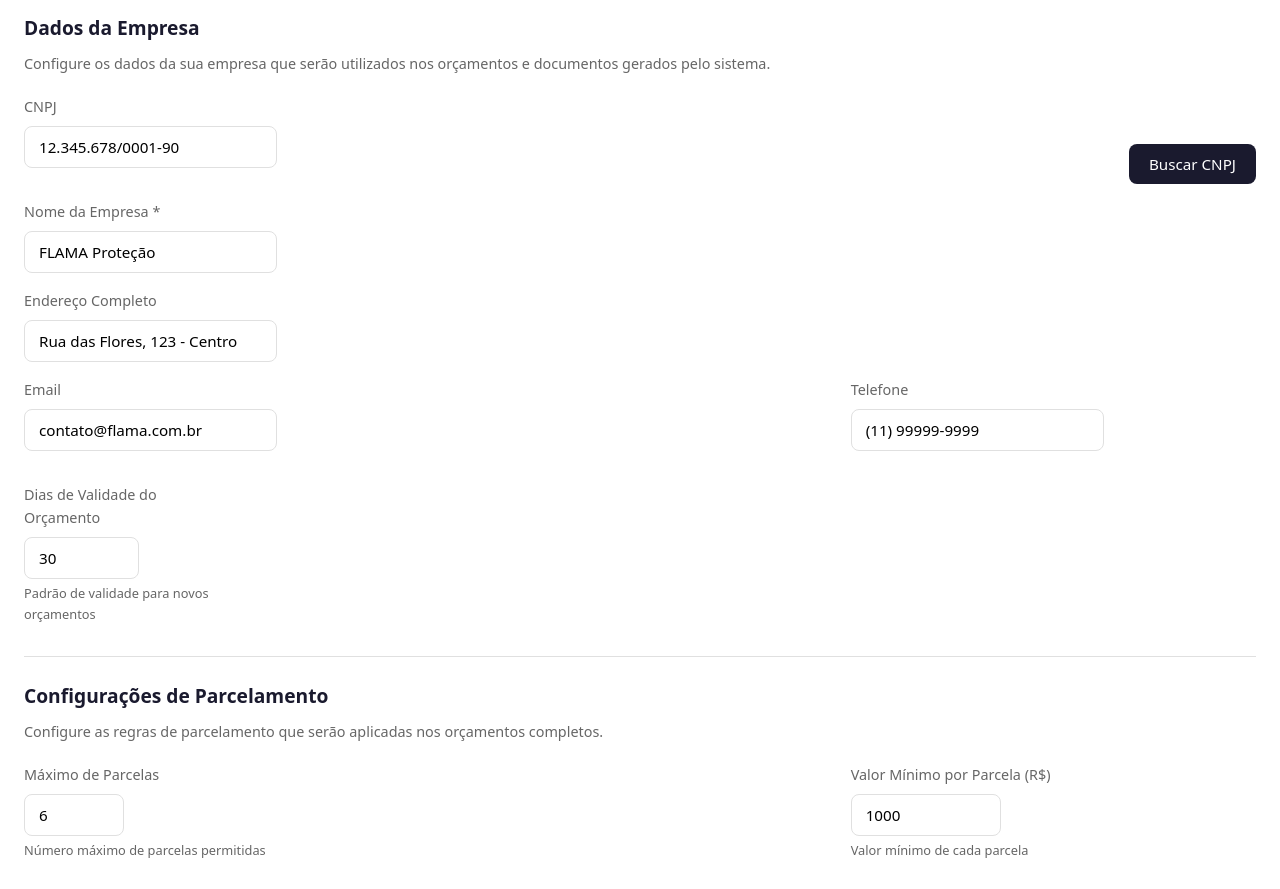
Scenario: EmpresaTab › Interações com formulário › deve mostrar botão Cancelar quando form está dirty
Step 1. Replace the text in the field showing "FLAMA Proteção" below "Nome da Empresa *" with "Nova Empresa" → (150, 252), box [24, 231, 277, 273]
(page scrolled)
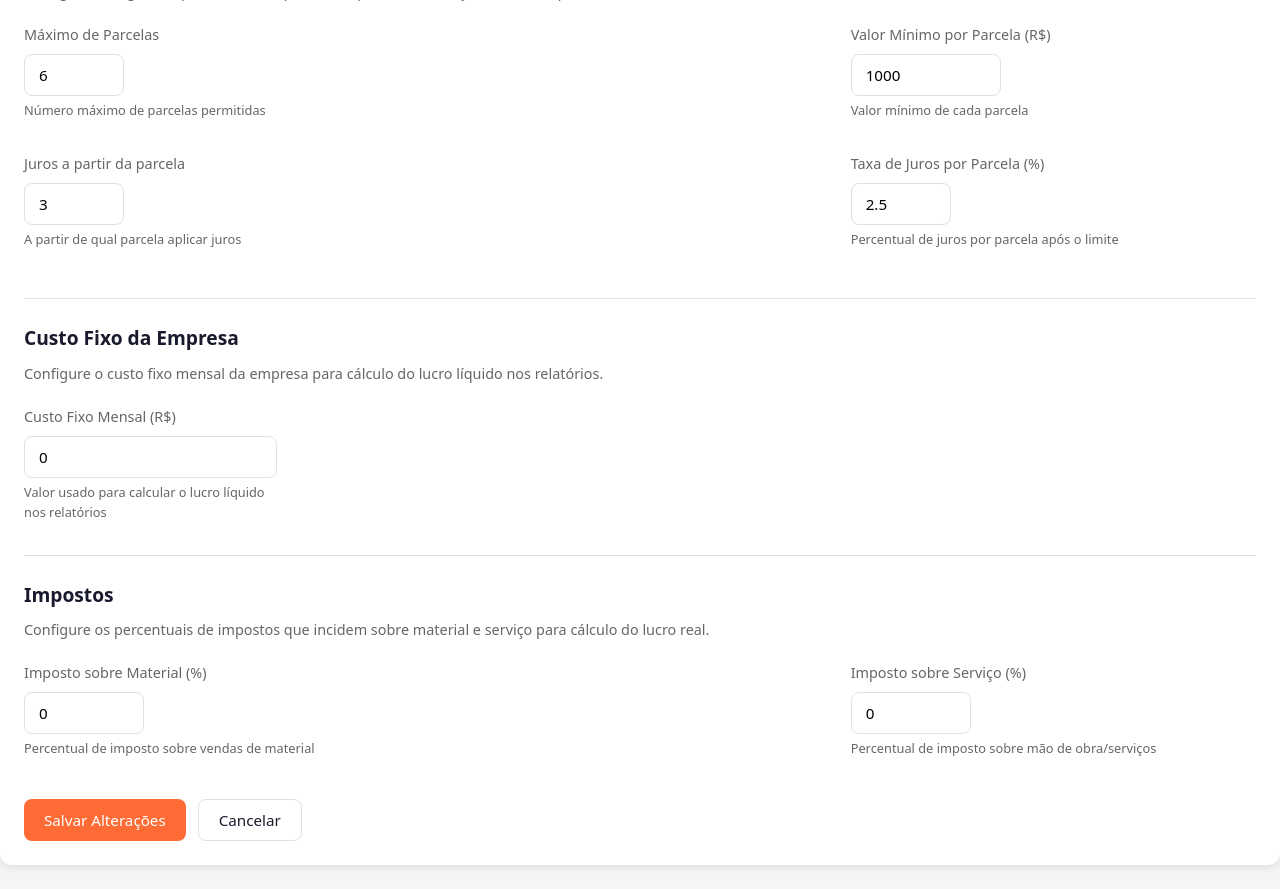
Check: the button "Cancelar" is shown, box [198, 799, 302, 841]
